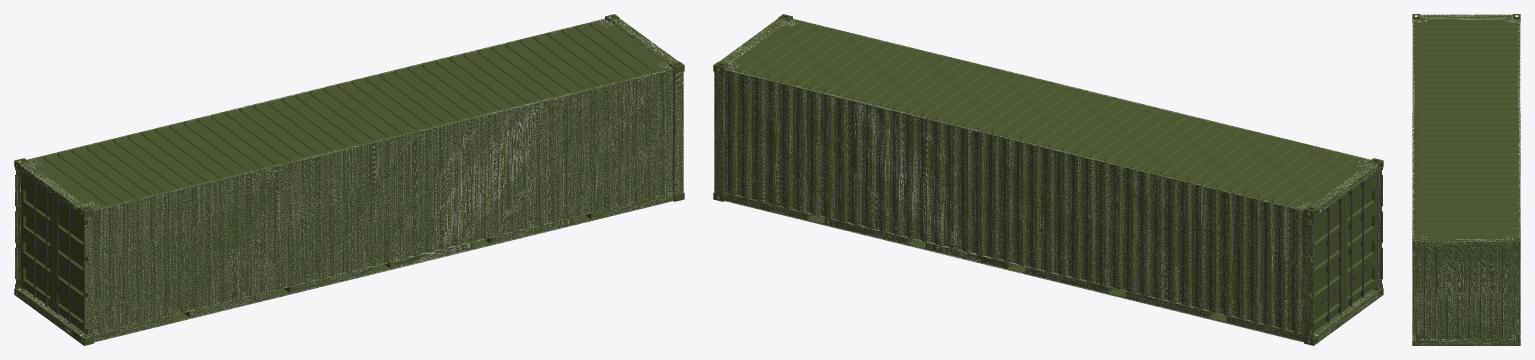
File: CONTAINER40.dae
3 renders of one model, left to right at view 1: azimuth 30°, elevation 25°; view 2: azimuth 150°, elevation 25°; view 3: azimuth 270°, elevation 25°, orthographic. The views are drawn at different scales.
Parts seen in each view (by area): view 1: group_4, group_3, Group_14 (×2), Group_31, Group_24 (×2), group_7 (×3), Group_22 (×2), Component_3, Component_4, Group_26; view 2: group_6, group_3, Group_14 (×2), Group_31, Group_24 (×2), group_7 (×3), Group_22 (×2), Component_3, Component_4, Group_26; view 3: group_3, group_5, Component_3 (×2), group_7 (×4), Group_24 (×2), Component_4, Component_2, Group_31 (×2), Group_26.
Part boxes in pixels (<box>): group_4: <box>95,70,673,333</box>; group_3: <box>41,22,658,206</box>; Group_14 (×2): <box>20,173,86,333</box>; Group_31: <box>94,192,674,342</box>; Group_24 (×2): <box>27,18,674,211</box>; group_7 (×3): <box>35,19,674,209</box>; Group_22 (×2): <box>15,167,95,339</box>; Component_3: <box>672,72,683,195</box>; Component_4: <box>19,289,84,341</box>; Group_26: <box>19,163,85,213</box>; group_6: <box>724,70,1302,333</box>; group_3: <box>734,22,1356,206</box>; Group_14 (×2): <box>1311,173,1377,333</box>; Group_31: <box>723,192,1303,342</box>; Group_24 (×2): <box>723,18,1370,211</box>; group_7 (×3): <box>723,19,1362,209</box>; Group_22 (×2): <box>1302,167,1382,339</box>; Component_3: <box>714,72,725,195</box>; Component_4: <box>1313,289,1378,341</box>; Group_26: <box>1316,163,1378,213</box>; group_3: <box>1414,24,1518,234</box>; group_5: <box>1422,246,1510,339</box>; Component_3 (×2): <box>1412,246,1520,340</box>; group_7 (×4): <box>1414,15,1518,240</box>; Group_24 (×2): <box>1412,19,1520,237</box>; Component_4: <box>1420,339,1512,345</box>; Component_2: <box>1420,240,1512,245</box>; Group_31 (×2): <box>1412,115,1520,335</box>; Group_26: <box>1420,14,1512,15</box>.
Bounding box in the file's own units: 477 × 95.96 × 102.
